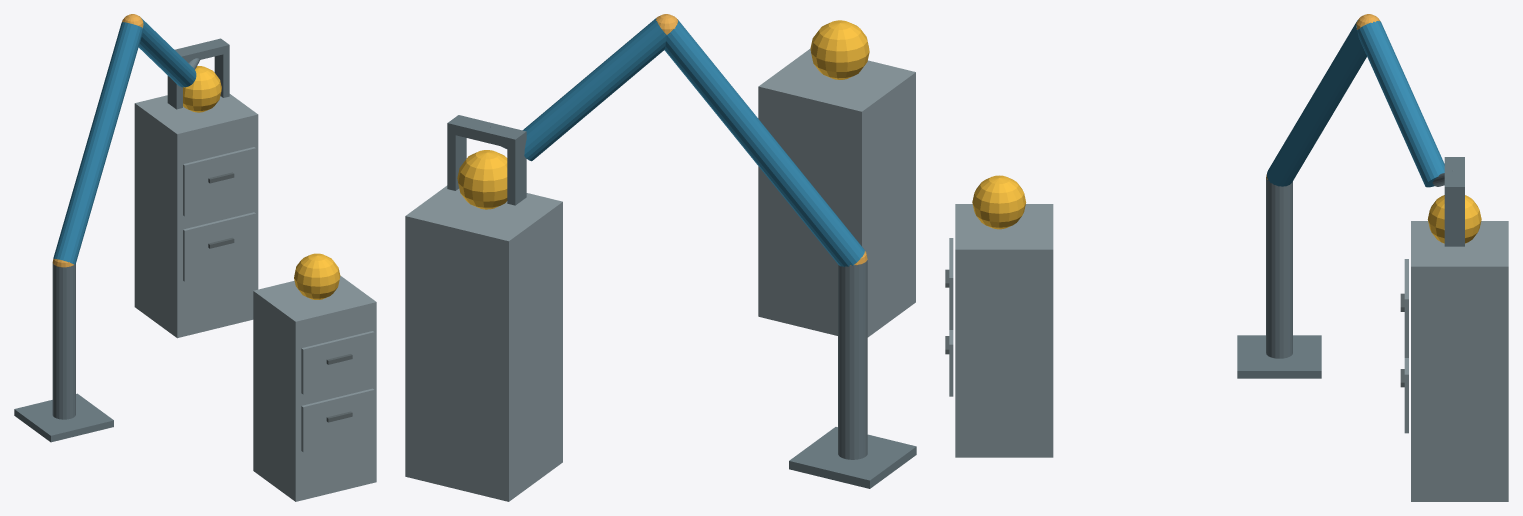
3 renders of one model, left to right at view 1: azimuth 30°, elevation 25°; view 2: azimuth 150°, elevation 25°; view 3: azimuth 270°, elevation 25°, orthographic. The views are drawn at different scales.
Visible parts, largest first — view 1: cabinet_2 body, cabinet_1 body, moving link 1, cabinet_2 drawer front, cabinet_2 drawer front.001, fixed post, cabinet_1 drawer front, cabinet_1 drawer front.001, pedestal, released ball_1, moving link 2, ball ball_2 (+3 smaller); view 2: cabinet_2 body, cabinet_1 body, moving link 1, fixed post, moving link 2, pedestal, released ball_1, ball ball_2, gripper bridge, gripper finger -1, gripper finger 1; view 3: cabinet_2 body, cabinet_1 body, fixed post, moving link 2, moving link 1, pedestal, released ball_1, ball ball_2, gripper finger 1, gripper bridge.
Part boxes in pixels (<box>): cabinet_2 body: <box>134,94,258,338</box>; cabinet_1 body: <box>253,275,376,501</box>; moving link 1: <box>53,22,142,264</box>; cabinet_2 drawer front: <box>183,212,255,281</box>; cabinet_2 drawer front.001: <box>183,147,255,216</box>; fixed post: <box>52,263,75,419</box>; cabinet_1 drawer front: <box>301,388,374,452</box>; cabinet_1 drawer front.001: <box>301,331,374,394</box>; pedestal: <box>14,393,113,442</box>; released ball_1: <box>294,253,340,299</box>; moving link 2: <box>138,18,196,87</box>; ball ball_2: <box>183,66,221,112</box>; cabinet_2 body: <box>405,185,562,501</box>; cabinet_1 body: <box>758,49,915,337</box>; moving link 1: <box>664,19,864,266</box>; fixed post: <box>838,258,867,459</box>; moving link 2: <box>522,18,666,161</box>; pedestal: <box>789,427,916,488</box>; released ball_1: <box>810,20,869,79</box>; ball ball_2: <box>457,150,507,209</box>; gripper bridge: <box>447,115,526,149</box>; gripper finger -1: <box>507,142,526,205</box>; gripper finger 1: <box>447,133,466,190</box>; cabinet_2 body: <box>1411,221,1508,501</box>; cabinet_1 body: <box>955,204,1053,457</box>; fixed post: <box>1266,178,1292,358</box>; moving link 2: <box>1357,21,1444,187</box>; moving link 1: <box>1267,20,1366,186</box>; pedestal: <box>1237,335,1321,378</box>; released ball_1: <box>972,175,1026,229</box>; ball ball_2: <box>1427,195,1481,243</box>; gripper finger 1: <box>1444,196,1464,246</box>; gripper bridge: <box>1444,157,1464,195</box>.
Size of the model in its own units: 1.12 by 1.33 by 1.67.
